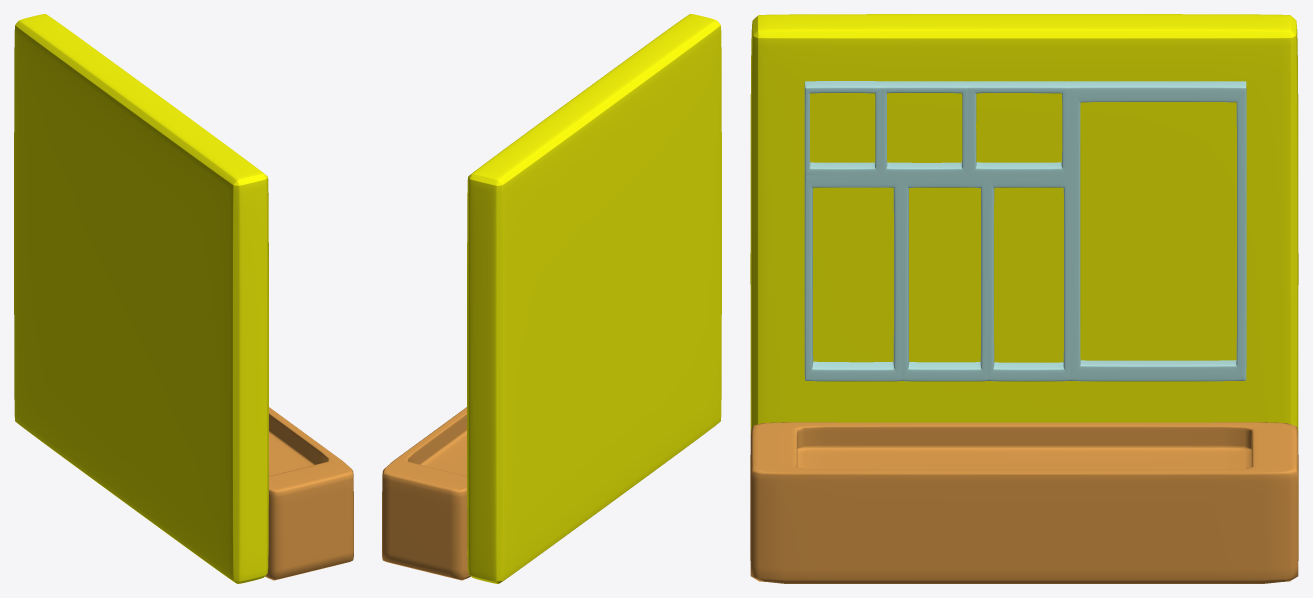
The picture shows the model from 3 angles, left to right: view 1: azimuth 30°, elevation 25°; view 2: azimuth 150°, elevation 25°; view 3: azimuth 270°, elevation 25°; orthographic projection. The views are drawn at different scales.
Parts seen in each view (by area): view 1: polySurface1218; view 2: polySurface1218; view 3: polySurface1218.
Part boxes in pixels (box(x1,y1,x2,y2)): polySurface1218: box(14, 14, 353, 583); polySurface1218: box(382, 14, 721, 583); polySurface1218: box(750, 14, 1298, 583).
Size of the model in its own units: 0.3194 by 1.01 by 0.9999.
